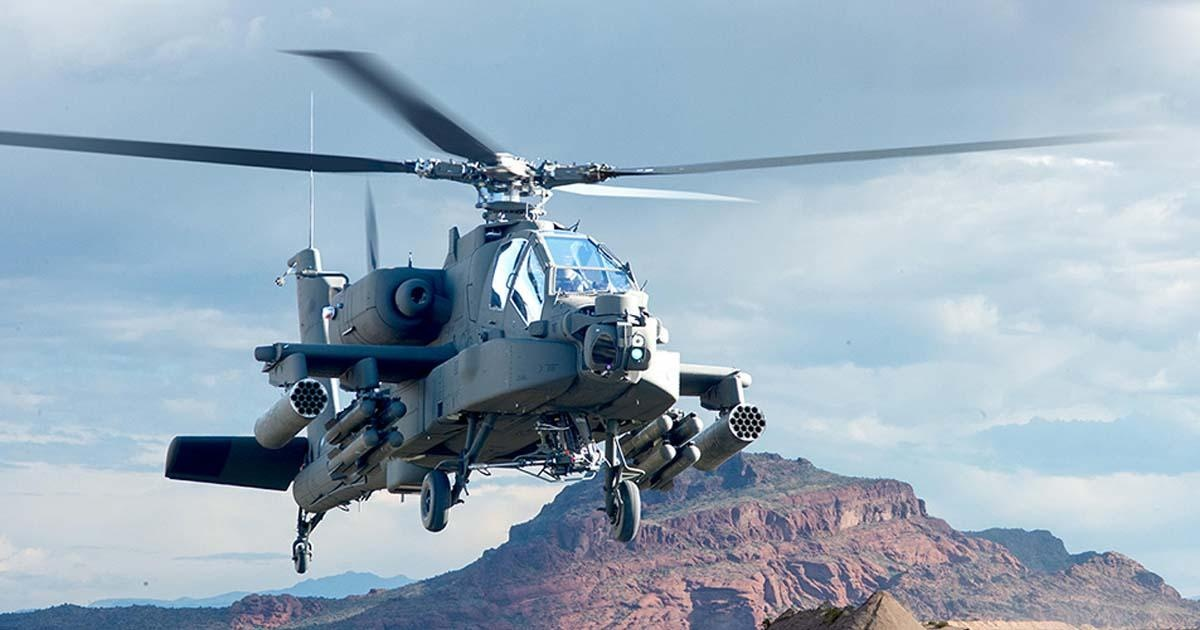aircraft: (7, 11, 782, 578)
